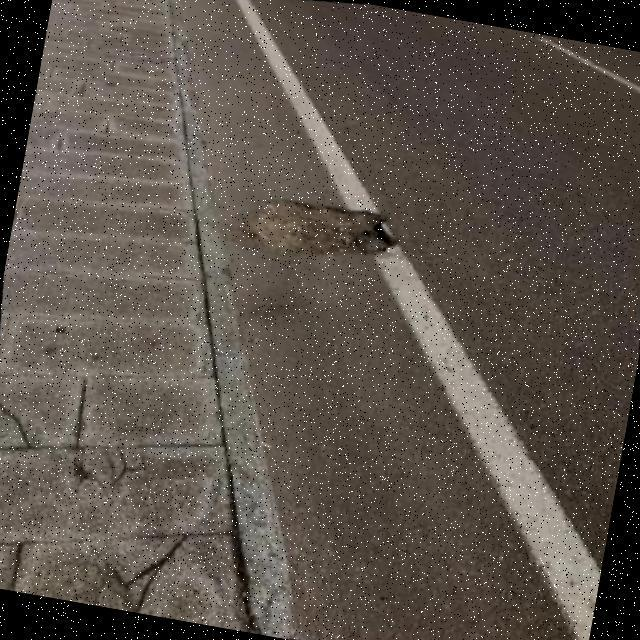Pothole: (240, 199, 397, 258)
